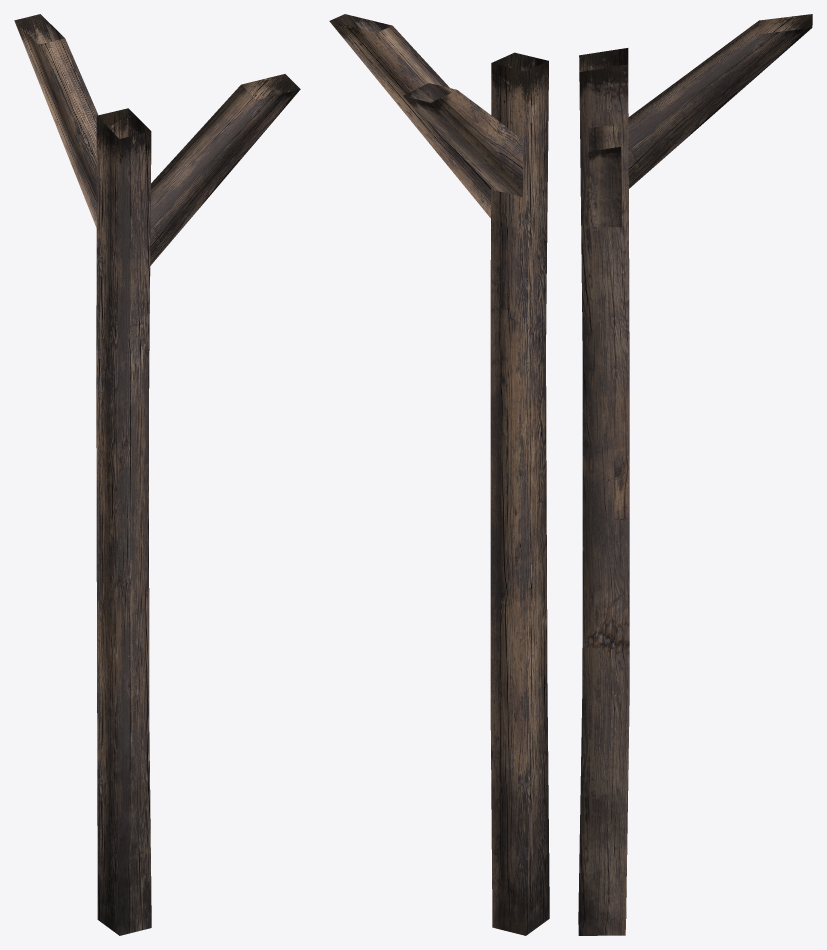
Rendered from porchPole_01_LOD1.FBX.
3 views of the same model, side by side, from view 1: azimuth 30°, elevation 25°; view 2: azimuth 150°, elevation 25°; view 3: azimuth 270°, elevation 25° (orthographic). The views are drawn at different scales.
Visible parts, largest first — view 1: porchPole_01_LOD1; view 2: porchPole_01_LOD1; view 3: porchPole_01_LOD1.
Part boxes in pixels (x1,y1,x2,y2): porchPole_01_LOD1: [14, 14, 300, 935]; porchPole_01_LOD1: [329, 14, 549, 935]; porchPole_01_LOD1: [578, 14, 812, 935].
Size of the model in its own units: 3.71 by 15.96 by 3.74.
Materials: 1 (1 with a texture image).
